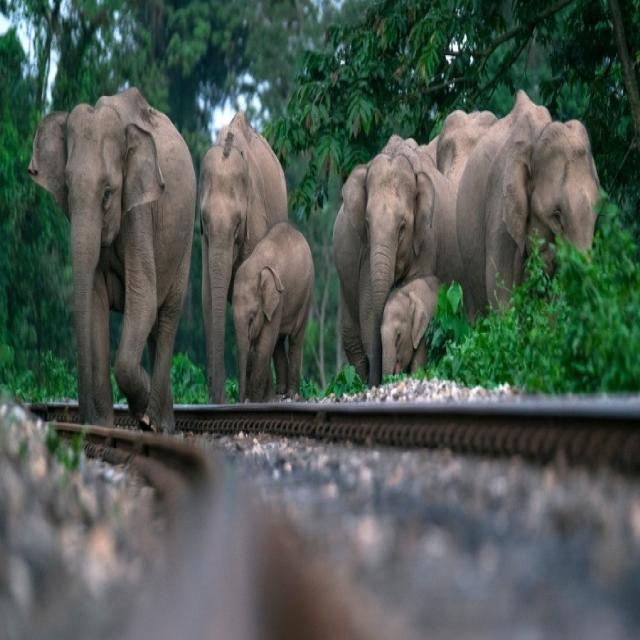Elephant: (461, 94, 602, 338), (186, 99, 287, 363), (335, 130, 429, 394), (232, 211, 319, 419), (379, 264, 445, 377)
